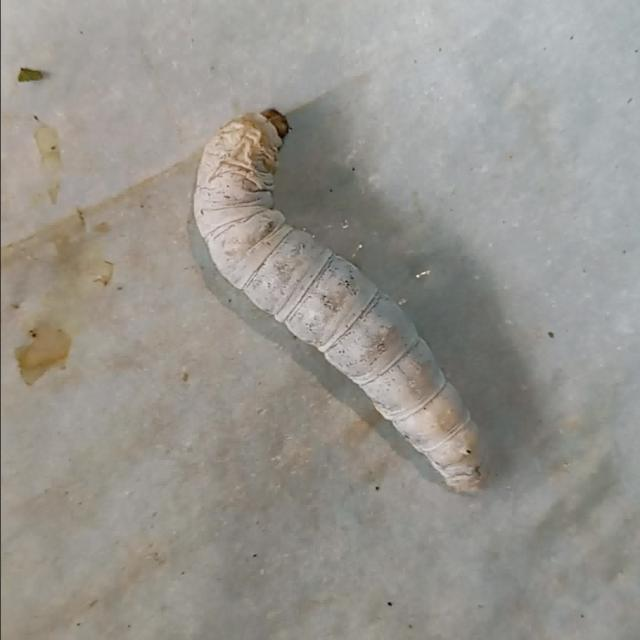Grasserie: (190, 90, 499, 498)
